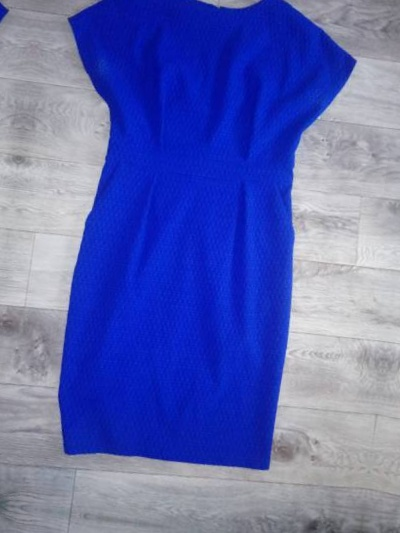Dress: (3, 0, 372, 494), (0, 0, 22, 446)
